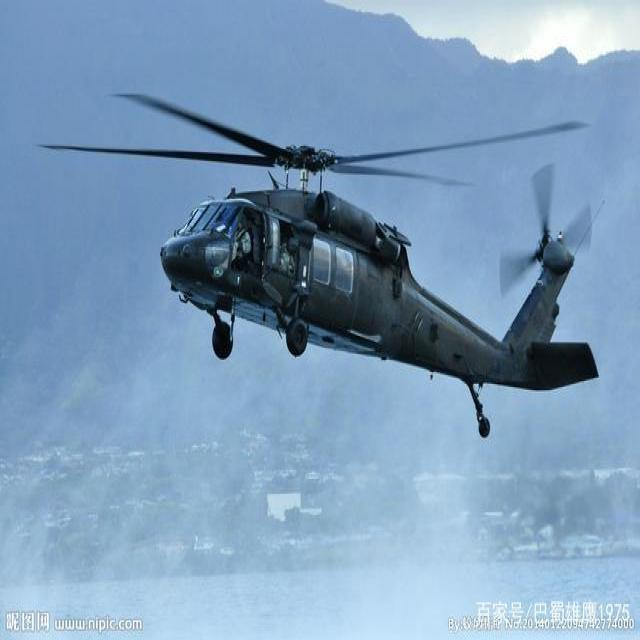MIL_HELO: (44, 80, 634, 462)
